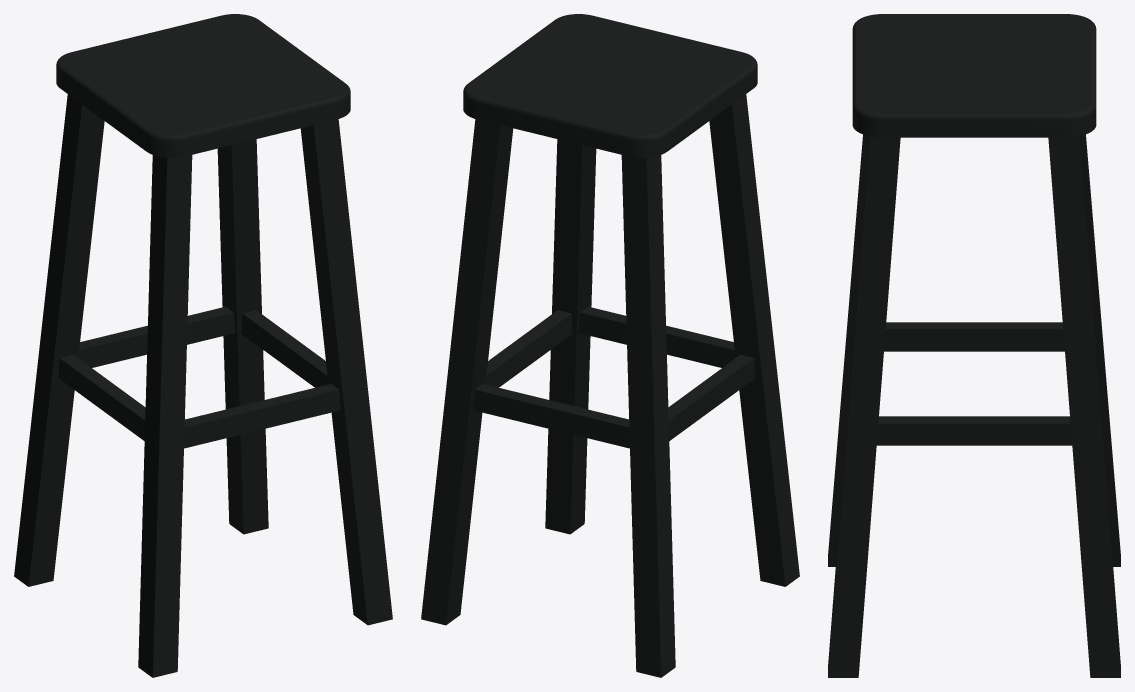
File: Stool.FBX
The picture shows the model from 3 angles, left to right: view 1: azimuth 30°, elevation 25°; view 2: azimuth 150°, elevation 25°; view 3: azimuth 270°, elevation 25°; orthographic projection. The views are drawn at different scales.
Visible parts, largest first — view 1: Stool; view 2: Stool; view 3: Stool.
Part boxes in pixels (x1,y1,x2,y2): Stool: (14, 14, 392, 677); Stool: (421, 14, 799, 677); Stool: (828, 14, 1120, 677).
Size of the model in its own units: 36.73 by 76.44 by 36.73.
1 material, 1 textured.
